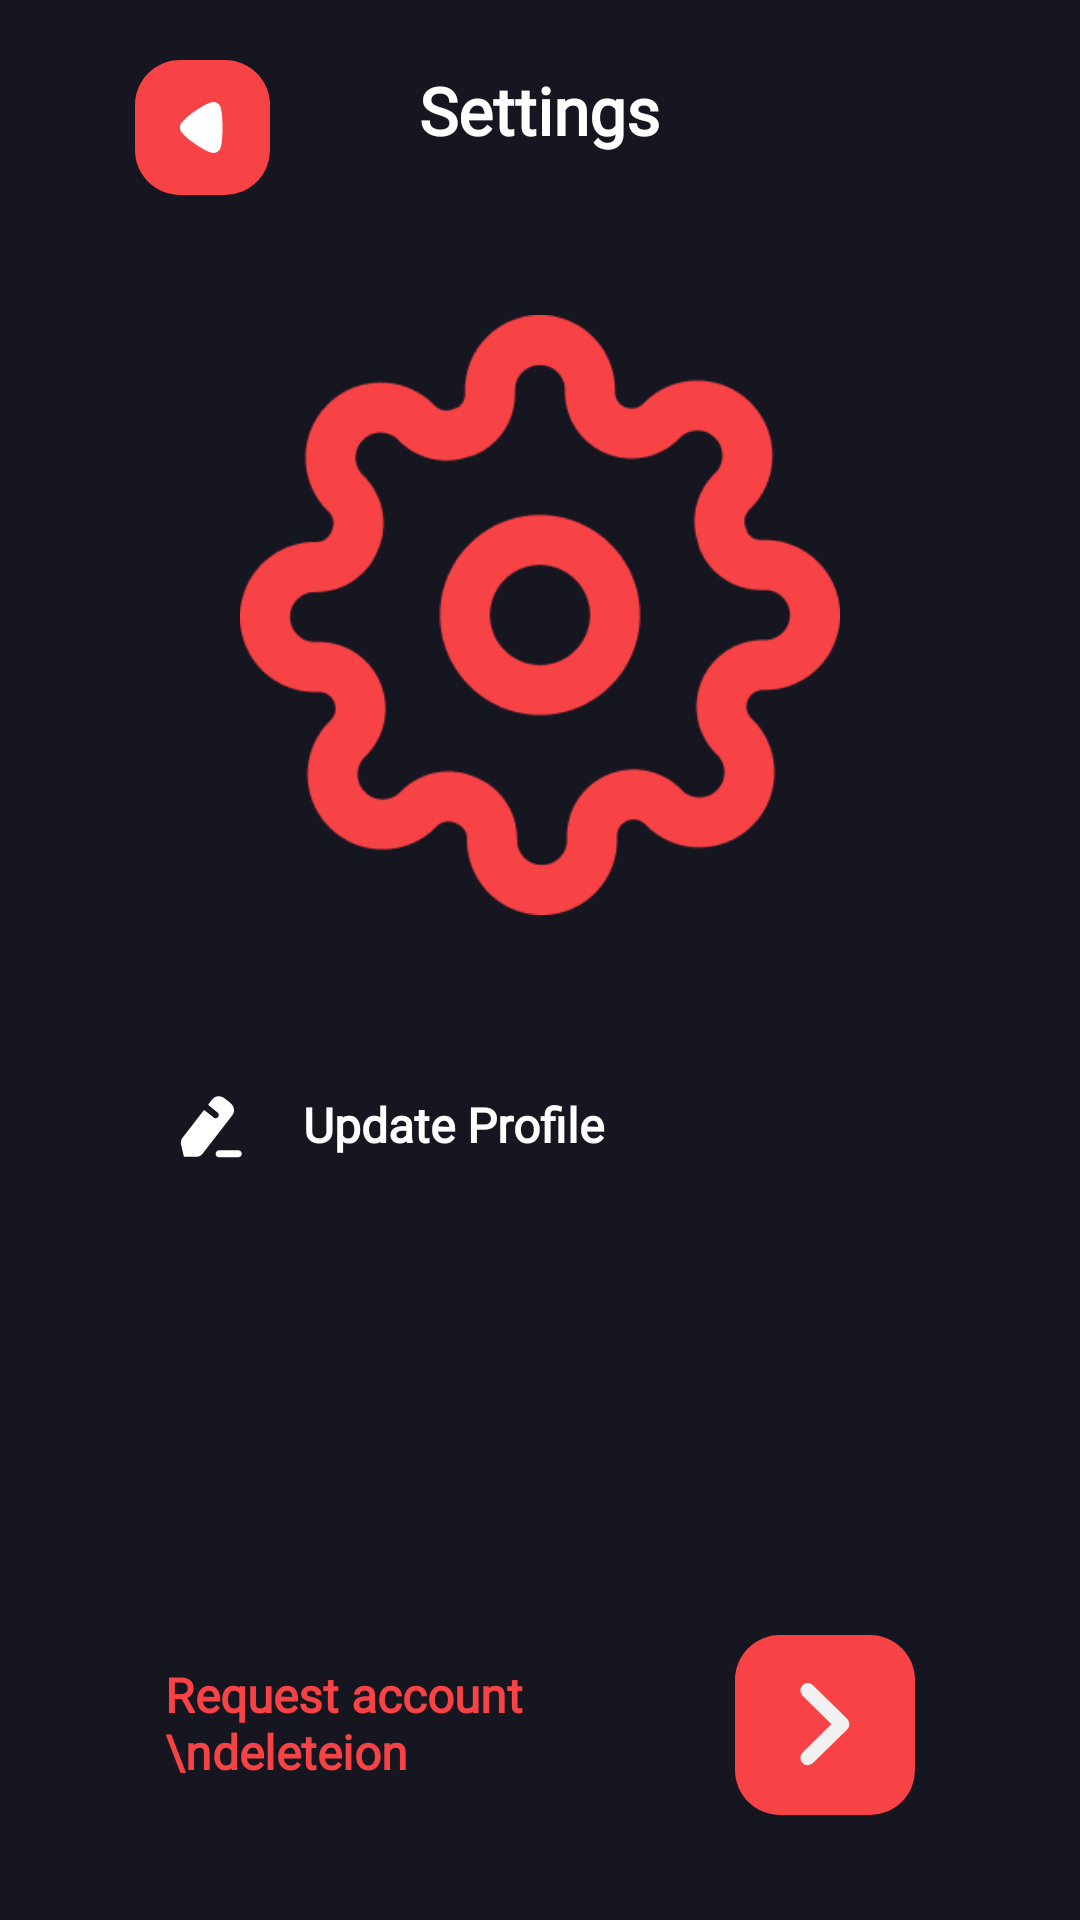

Point at icon controls on the screen. Image size 1080w x 1920h, points as point (x, y).
arrow left: point (202, 127)
next arrow: point (825, 1725)
